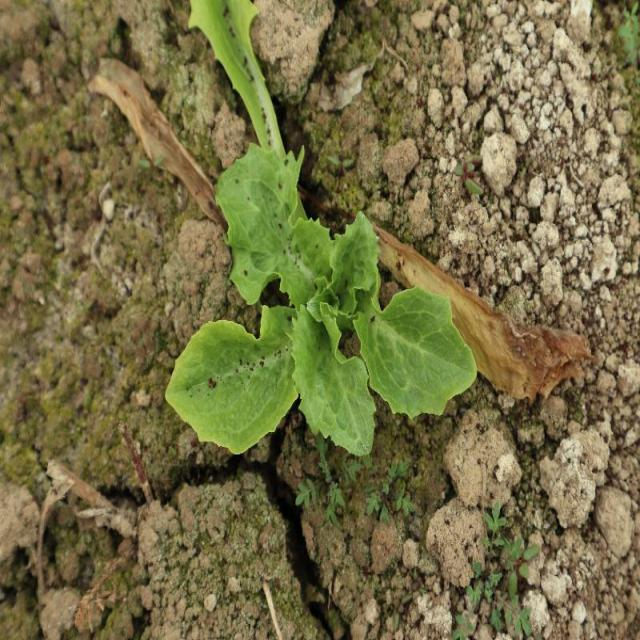crop: (164, 0, 480, 459)
